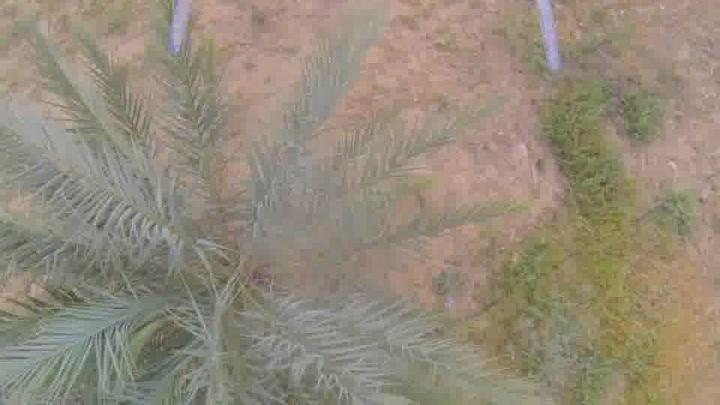Date-Palm-Crown: (26, 121, 354, 401)
